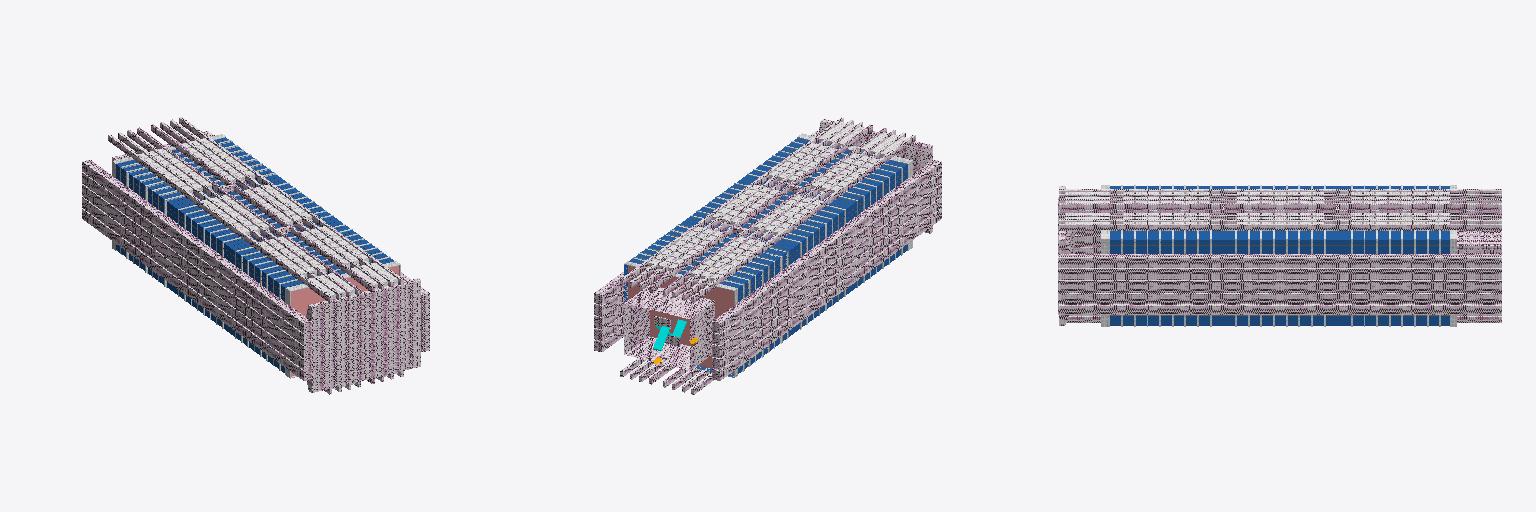
3 renders of one model, left to right at view 1: azimuth 30°, elevation 25°; view 2: azimuth 150°, elevation 25°; view 3: azimuth 270°, elevation 25°, orthographic.
Parts seen in each view (by area): view 1: wall_1_01, wall_1_03, glass_01, glass_1_02, wall_1_04, wall_02, wall_05, glass_1_03, glass_1_01, slab_01, frame_01; view 2: wall_1_01, glass_01, wall_2_02, glass_1_02, slab_01, wall_02, wall_1_04, wall_05, glass_1_03, wall_1_03, glass_1_01, frame_01; view 3: wall_1_01, glass_01, glass_1_02, wall_02, wall_2_02, frame_01, glass_1_01.
Part boxes in pixels (left/top/right/bottom): wall_1_01: left=82, top=117, right=428, bottom=394; wall_1_03: left=309, top=278, right=420, bottom=392; glass_01: left=116, top=137, right=393, bottom=372; glass_1_02: left=138, top=138, right=367, bottom=273; wall_1_04: left=223, top=186, right=429, bottom=393; wall_02: left=120, top=140, right=389, bottom=370; wall_05: left=116, top=137, right=400, bottom=378; glass_1_03: left=144, top=142, right=397, bottom=388; glass_1_01: left=309, top=263, right=396, bottom=294; slab_01: left=291, top=266, right=398, bottom=376; frame_01: left=116, top=139, right=389, bottom=367; wall_1_01: left=594, top=117, right=941, bottom=394; glass_01: left=624, top=138, right=907, bottom=376; wall_2_02: left=624, top=285, right=714, bottom=370; glass_1_02: left=649, top=143, right=878, bottom=278; slab_01: left=628, top=266, right=733, bottom=373; wall_02: left=632, top=141, right=902, bottom=371; wall_1_04: left=594, top=131, right=941, bottom=394; wall_05: left=624, top=137, right=907, bottom=377; glass_1_03: left=649, top=139, right=884, bottom=372; wall_1_03: left=818, top=119, right=932, bottom=233; glass_1_01: left=819, top=122, right=907, bottom=154; frame_01: left=634, top=139, right=907, bottom=368; wall_1_01: left=1059, top=189, right=1501, bottom=322; glass_01: left=1110, top=186, right=1449, bottom=325; glass_1_02: left=1123, top=192, right=1449, bottom=223; wall_02: left=1121, top=185, right=1440, bottom=326; wall_2_02: left=1457, top=231, right=1501, bottom=253; frame_01: left=1110, top=245, right=1449, bottom=315; glass_1_01: left=1065, top=192, right=1109, bottom=315.
Bounding box in the file's own units: 1380 × 1020 × 4206.
Materials: 8 (3 with a texture image).